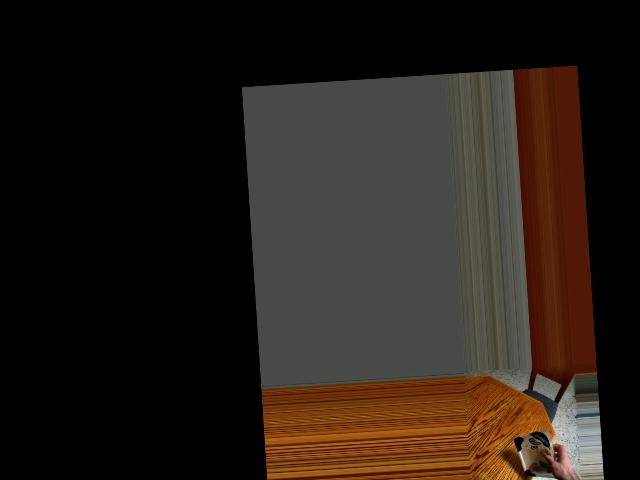cheese: (516, 427, 556, 480)
